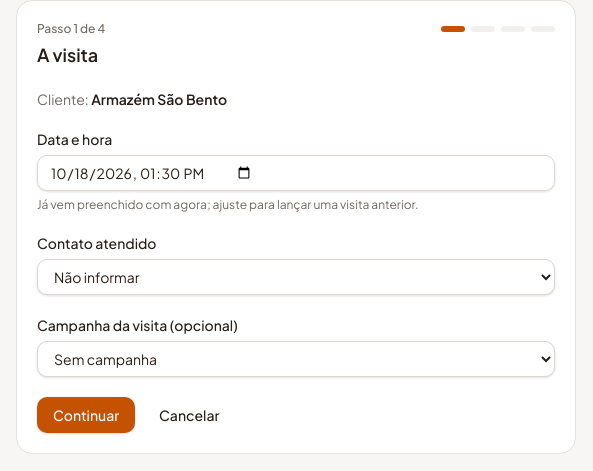
Test case: CheckInPage — passos › abre no passo 1 "A visita" com data e hora, contato e campanha; Continuar leva ao passo 2 e foca o título
Expected: the text "Armazém São Bento" is shown, [91, 90, 227, 108]
Expected: the text "Cliente: Armazém São Bento" is shown, [37, 90, 227, 108]
Click the button "Continuar" at (86, 415), box [37, 397, 135, 433]
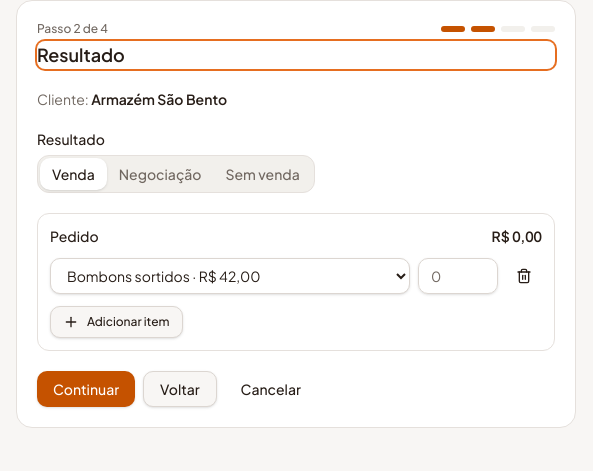
Result: the text "Passo 2 de 4" is shown at [37, 21, 108, 37]
Result: the element "Resultado" is shown
Result: the button "Voltar" is shown at [143, 371, 217, 407]
Click the button "Continuar" at (86, 389), box [37, 371, 135, 407]
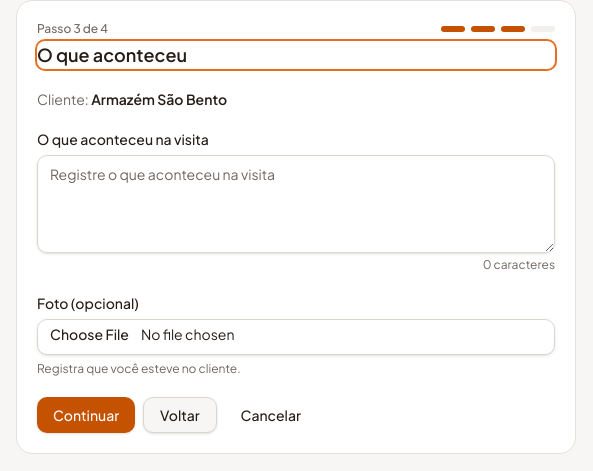
Result: the file field labelled "Foto (opcional)" is shown at [37, 319, 555, 355]
Type "Reposição do mostruário." into the text box labelled "O que aconteceu na visita" at (296, 204), box [37, 155, 555, 253]
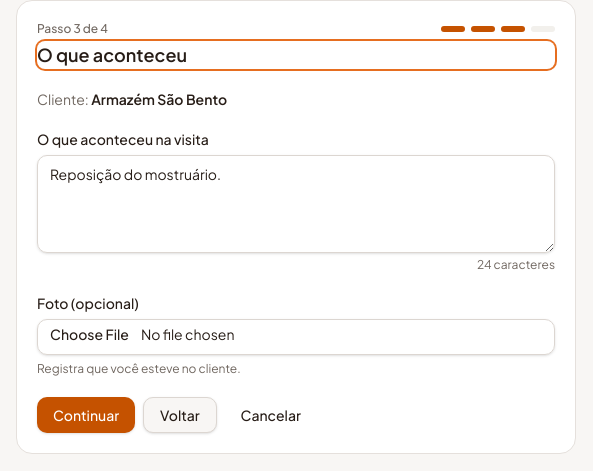
Click the button "Continuar" at (86, 415), box [37, 397, 135, 433]
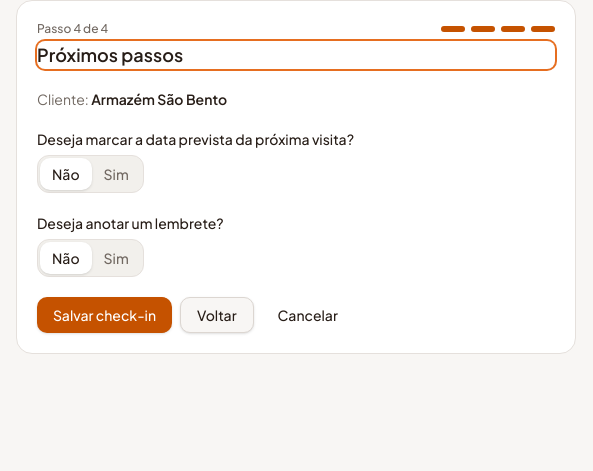
Result: the text "Passo 4 de 4" is shown at [37, 21, 108, 37]
Result: the button "Continuar" is gone
